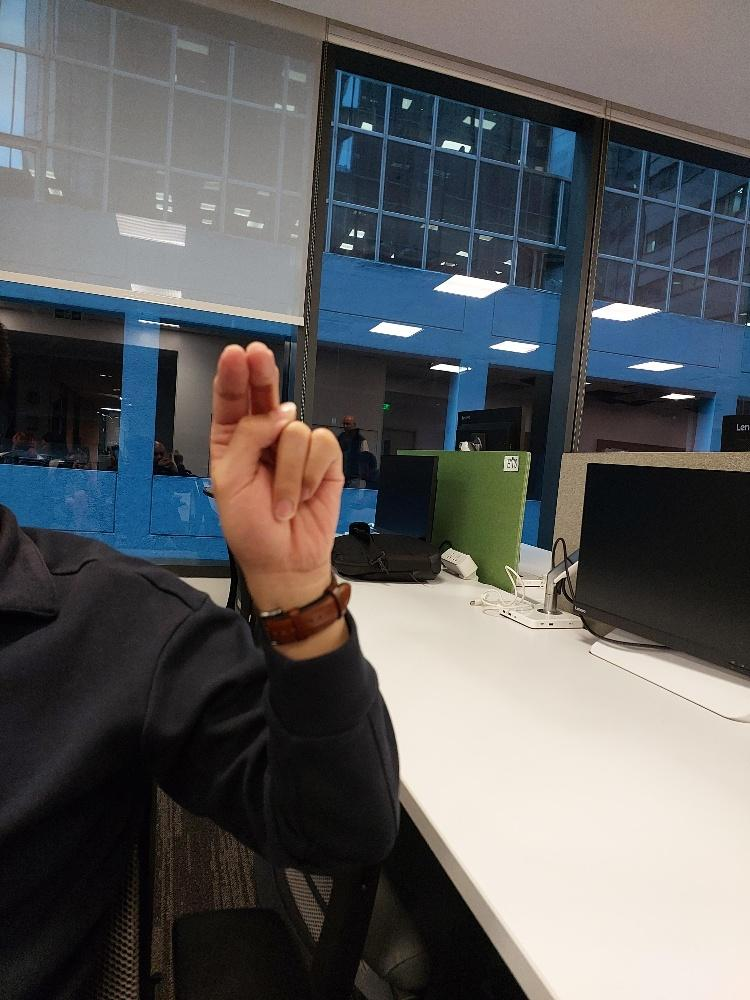n: (207, 339, 345, 567)
